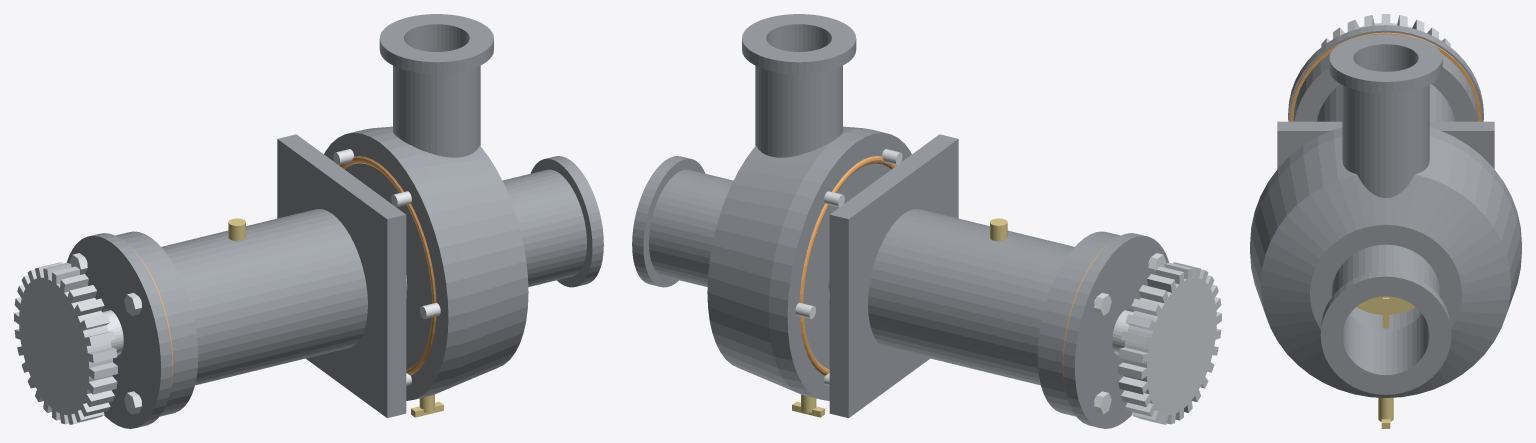
File: modele.glb
The picture shows the model from 3 angles, left to right: view 1: azimuth 30°, elevation 25°; view 2: azimuth 150°, elevation 25°; view 3: azimuth 270°, elevation 25°; orthographic projection.
Parts seen in each view (by area): view 1: volute, corps_palier, pignon, couvercle_arriere, joint_torique; view 2: volute, corps_palier, pignon, couvercle_arriere, joint_torique; view 3: volute, corps_palier, couvercle_arriere, joint_plat, roue, pignon, robinet_vidange.
Boxes of the visible parts, left/top/right/bottom form: volute: left=324, top=14, right=603, bottom=400; corps_palier: left=115, top=134, right=406, bottom=418; pignon: left=14, top=262, right=117, bottom=424; couvercle_arriere: left=67, top=233, right=172, bottom=428; joint_torique: left=339, top=156, right=436, bottom=375; volute: left=632, top=14, right=911, bottom=400; corps_palier: left=829, top=134, right=1120, bottom=418; pignon: left=1118, top=262, right=1221, bottom=424; couvercle_arriere: left=1063, top=233, right=1168, bottom=428; joint_torique: left=799, top=156, right=896, bottom=375; volute: left=1250, top=34, right=1521, bottom=397; corps_palier: left=1277, top=53, right=1494, bottom=168; couvercle_arriere: left=1288, top=25, right=1483, bottom=121; joint_plat: left=1290, top=32, right=1481, bottom=121; roue: left=1356, top=296, right=1415, bottom=328; pignon: left=1321, top=14, right=1450, bottom=46; robinet_vidange: left=1378, top=397, right=1393, bottom=428.
Size of the model in its own units: 0.5435 by 0.374 by 0.25.
